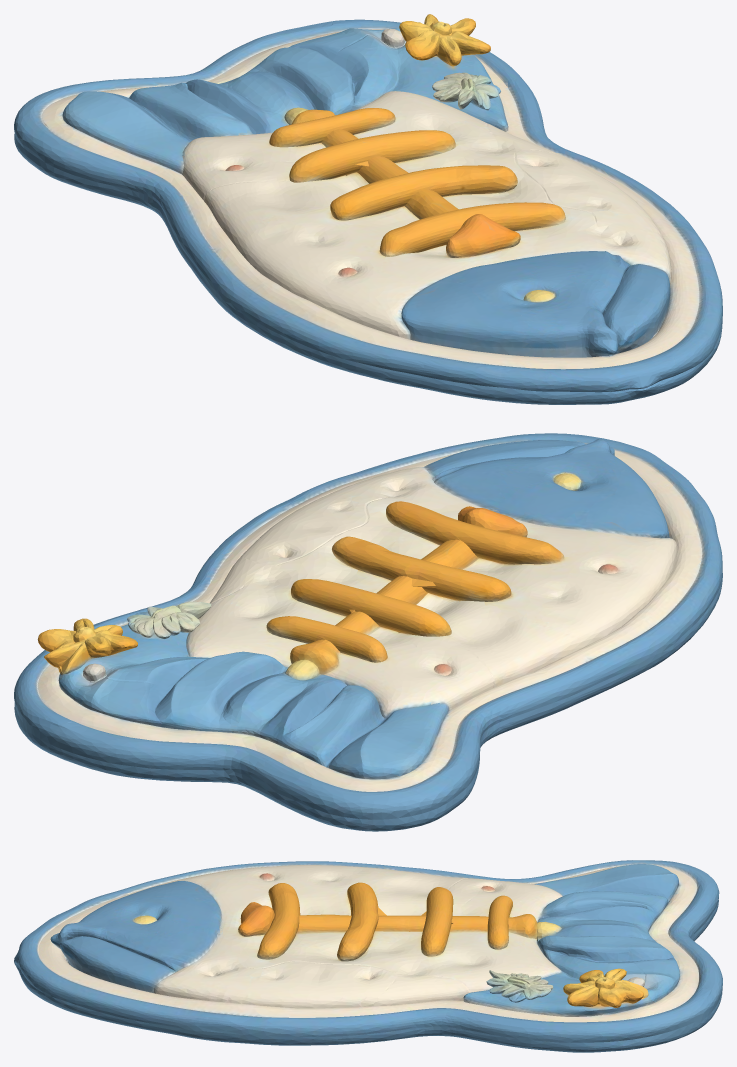
3 renders of one model, top to bottom at view 1: azimuth 30°, elevation 25°; view 2: azimuth 150°, elevation 25°; view 3: azimuth 270°, elevation 25°, orthographic. The views are drawn at different scales.
Parts seen in each view (by area): view 1: tripo_node_0ef5d706-d74e-4937-ade7-2f80e44c82d1; view 2: tripo_node_0ef5d706-d74e-4937-ade7-2f80e44c82d1; view 3: tripo_node_0ef5d706-d74e-4937-ade7-2f80e44c82d1.
Part boxes in pixels (bbox=[...]): tripo_node_0ef5d706-d74e-4937-ade7-2f80e44c82d1: bbox=[14, 14, 722, 404]; tripo_node_0ef5d706-d74e-4937-ade7-2f80e44c82d1: bbox=[14, 433, 722, 831]; tripo_node_0ef5d706-d74e-4937-ade7-2f80e44c82d1: bbox=[14, 860, 722, 1052].
Bounding box in the file's own units: 0.5702 × 0.1069 × 0.9799.
Materials: 1 (1 with a texture image).
